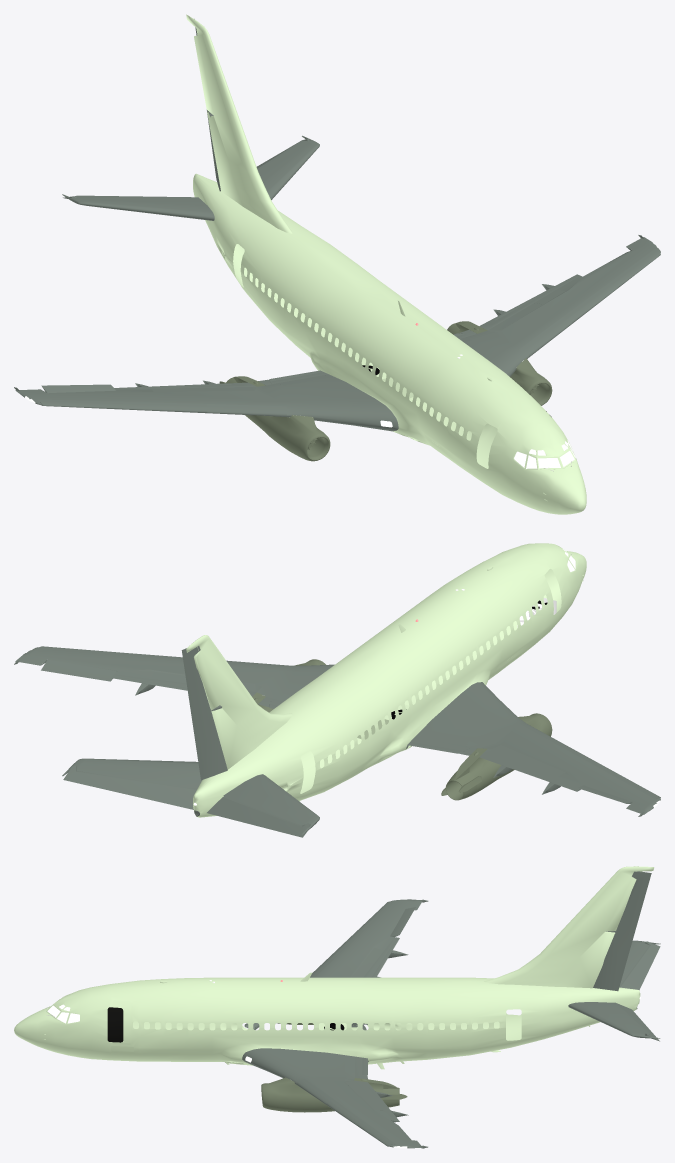
The model's file is exterior_v2.gltf.
The picture shows the model from 3 angles, top to bottom: view 1: azimuth 30°, elevation 25°; view 2: azimuth 150°, elevation 25°; view 3: azimuth 270°, elevation 25°; orthographic projection. The views are drawn at different scales.
Parts seen in each view (by area): view 1: Fuselage, Wings, HTail, RightEngine, LeftFlapsOutboard, LeftEngine, Windows; view 2: Fuselage, Wings, HTail, VTail, LeftElevator, RightEngine, RightElevator, LeftFlapsOutboard, LeftAileron; view 3: Fuselage, Wings, VTail, LeftEngine, HTail, LeftFlapsOutboard, RightElevator, Door_L1, LeftFlapsInboard, Windows.
Boxes of the visible parts, box(x1,y1,x2,y2) form: Fuselage: box(186, 14, 586, 514); Wings: box(14, 235, 660, 431); HTail: box(62, 135, 319, 220); RightEngine: box(219, 376, 330, 461); LeftFlapsOutboard: box(479, 274, 582, 332); LeftEngine: box(447, 321, 552, 405); Windows: box(25, 243, 659, 468); Fuselage: box(186, 543, 586, 817); Wings: box(14, 646, 660, 816); HTail: box(62, 758, 319, 834); VTail: box(181, 646, 227, 780); LeftElevator: box(63, 766, 197, 809); RightEngine: box(441, 713, 552, 800); RightElevator: box(207, 796, 310, 837); LeftFlapsOutboard: box(111, 669, 261, 696); LeftAileron: box(41, 659, 116, 681); Fuselage: box(14, 866, 654, 1065); Wings: box(242, 899, 428, 1148); VTail: box(593, 871, 651, 991); LeftEngine: box(261, 1077, 407, 1112); HTail: box(568, 940, 660, 1038); LeftFlapsOutboard: box(344, 1079, 408, 1122); RightElevator: box(619, 941, 660, 990); Door_L1: box(107, 1007, 123, 1042); LeftFlapsInboard: box(345, 1056, 367, 1079); Windows: box(47, 899, 640, 1148).
Size of the model in its own units: 29.52 by 11.18 by 32.54.
